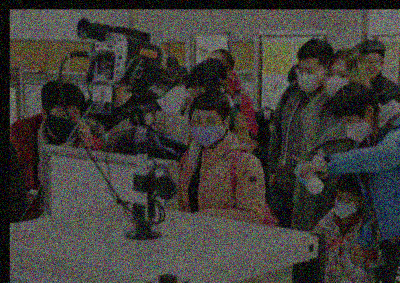with_mask: (189, 112, 224, 145), (47, 107, 80, 139), (296, 62, 324, 94), (339, 113, 368, 142), (324, 66, 350, 98), (333, 189, 357, 219)
